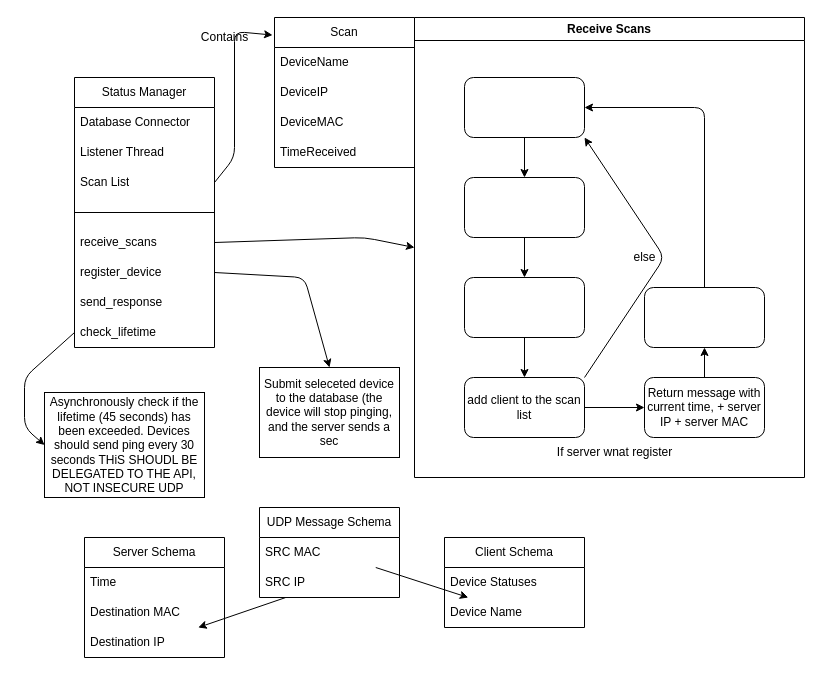
Image size: 822x675. Some labels were removed from this diagram. The shapes that lost their labels are listed below. From the top down, each one's centre as x and y in pixels, then its label:
At [524,107]: "Listen For UDP Messages".
At [524,207]: "Receive Message".
At [524,307]: "Parse message contents".
At [704,317]: "Client asks for SSL connection".
